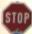Stop sign: (0, 0, 31, 33)
